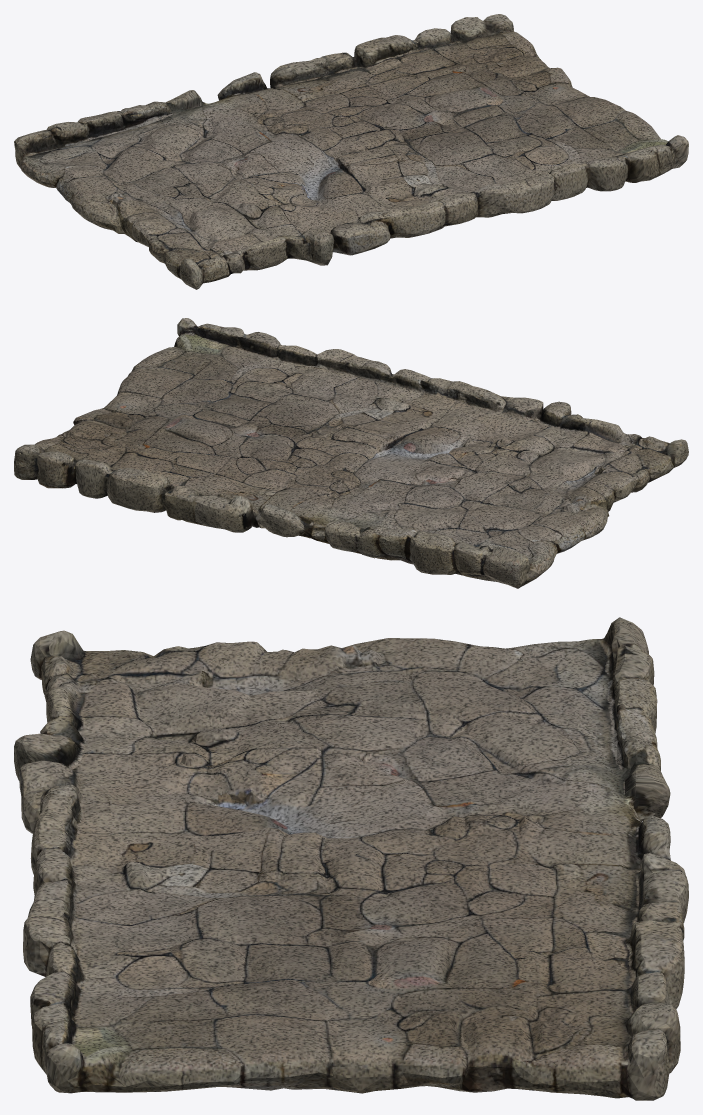
Rendered from StonyGround.fbx.
3 renders of one model, top to bottom at view 1: azimuth 30°, elevation 25°; view 2: azimuth 150°, elevation 25°; view 3: azimuth 270°, elevation 25°, orthographic. The views are drawn at different scales.
Parts seen in each view (by area): view 1: 物件_1; view 2: 物件_1; view 3: 物件_1.
Boxes of the visible parts, bbox=[...] form: 物件_1: bbox=[14, 14, 688, 289]; 物件_1: bbox=[14, 318, 688, 588]; 物件_1: bbox=[14, 617, 688, 1100].
Bounding box in the file's own units: 3115 × 242 × 2044.
1 material, 1 textured.
